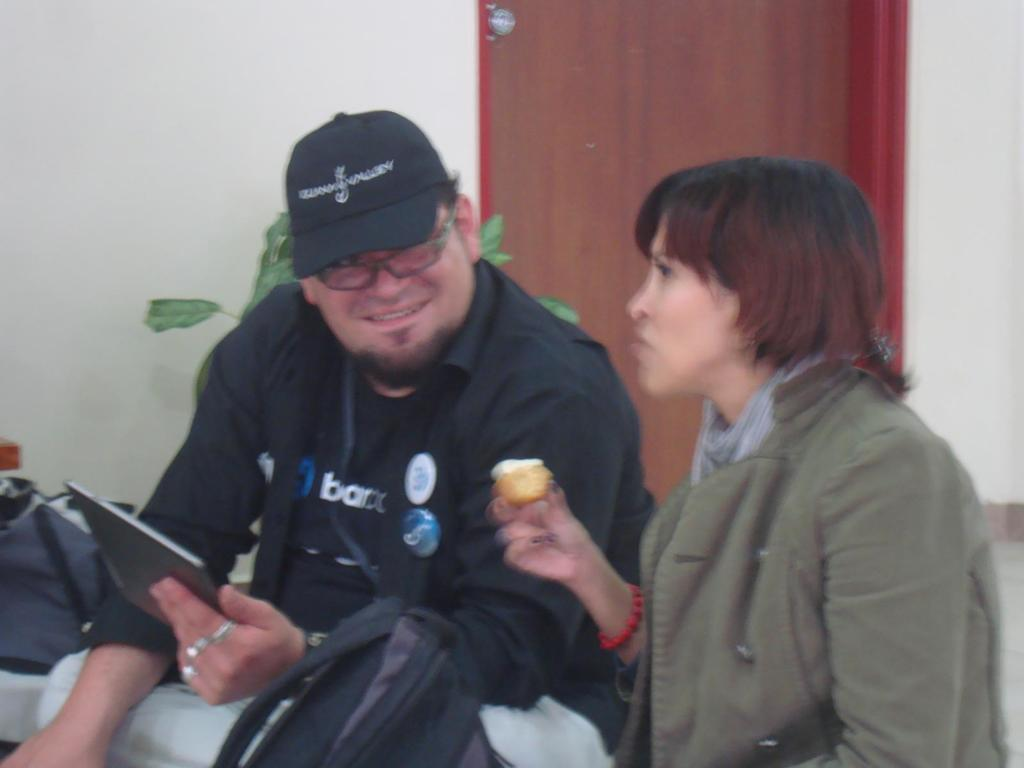Hat: (286, 106, 455, 278)
